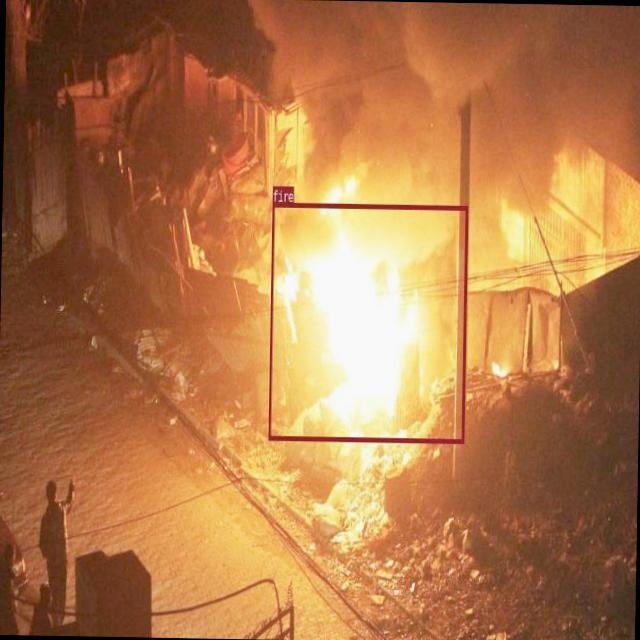fire: (268, 202, 467, 442)
